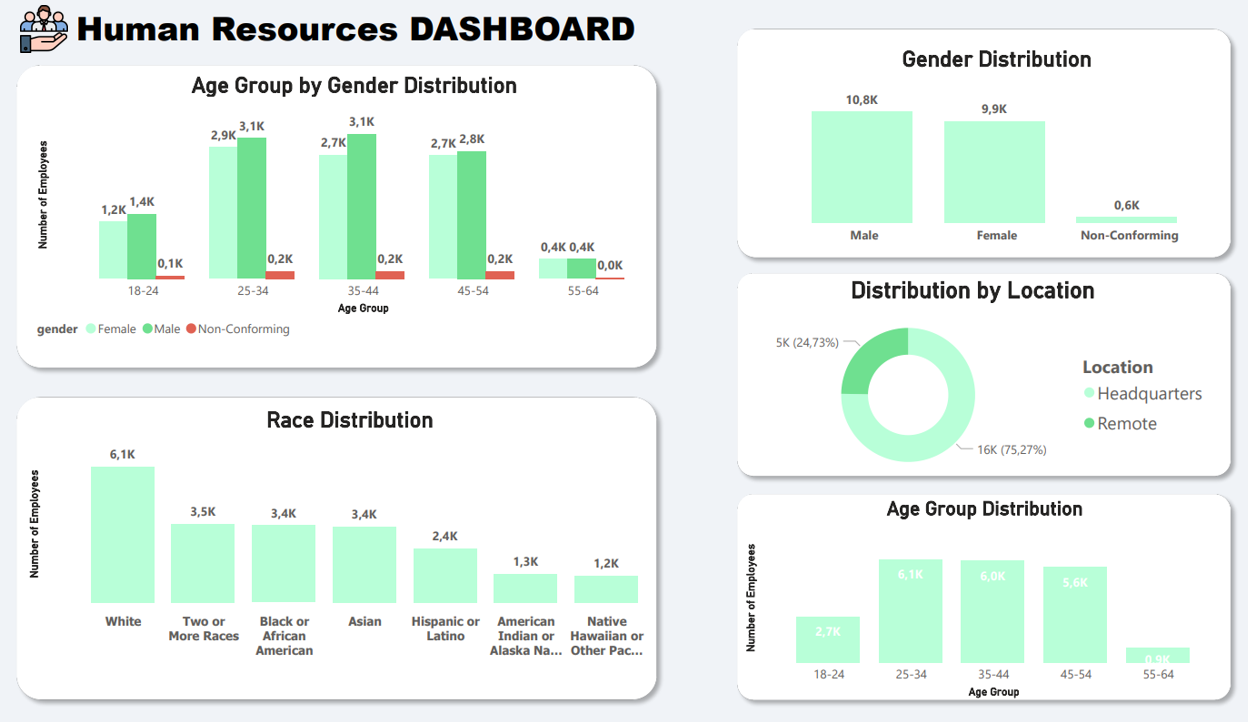

What the dashboard file says about the page in this screenshot:
{"tool":"powerbi","page":{"name":"Page 1","canvas":[1280,720],"ordinal":0},"visuals":[{"type":"shape","box":[758.9,480,504.4,220],"z":0},{"type":"shape","box":[758.9,263.3,504.4,216.7],"z":1000},{"type":"shape","box":[758.9,21.1,504.4,242.2],"z":2000},{"type":"shape","box":[47.8,384.4,648.9,315.6],"z":3000},{"type":"donutChart","title":"Distribution by Location","fields":{"Y":["Sum(location.count)"],"Category":["location.location"]},"box":[758.9,274.4,482.2,207.8],"z":4000},{"type":"columnChart","title":"Race Distribution","fields":{"Category":["race.race"],"Y":["Sum(race.count)"]},"box":[62.9,402.9,644.3,255.7],"z":5000},{"type":"textbox","box":[12.9,1.4,648.6,55.7],"z":6000},{"type":"shape","box":[47.8,56.7,648.9,315.6],"z":7000},{"type":"clusteredColumnChart","title":"Age Group by Gender Distribution","fields":{"Category":["age_group_gender.age_group"],"Y":["Sum(age_group_gender.count)"],"Series":["age_group_gender.gender"]},"box":[71.4,72.9,635.7,271.4],"z":8000},{"type":"clusteredColumnChart","title":"Gender Distribution","fields":{"Category":["gender.gender"],"Y":["Sum(gender.count)"]},"box":[782.2,47.8,481.1,204.4],"z":9000},{"type":"clusteredColumnChart","title":"Age Group Distribution","fields":{"Category":["age_group.age_group"],"Y":["Sum(age_group.count)"]},"box":[770,491.4,482.9,202.9],"z":10000}]}

Visuals, with their boxes in screenshot pixels (x1, y1, x2, y2), scaled from the page's 1280x720 canvas onto the 1248x722 screenshot:
shape: rect(740, 481, 1232, 702)
shape: rect(740, 264, 1232, 481)
shape: rect(740, 21, 1232, 264)
shape: rect(47, 385, 679, 702)
"Distribution by Location" donutChart: rect(740, 275, 1210, 484)
"Race Distribution" columnChart: rect(61, 404, 690, 660)
textbox: rect(13, 1, 645, 57)
shape: rect(47, 57, 679, 373)
"Age Group by Gender Distribution" clusteredColumnChart: rect(70, 73, 689, 345)
"Gender Distribution" clusteredColumnChart: rect(763, 48, 1232, 253)
"Age Group Distribution" clusteredColumnChart: rect(751, 493, 1222, 696)
